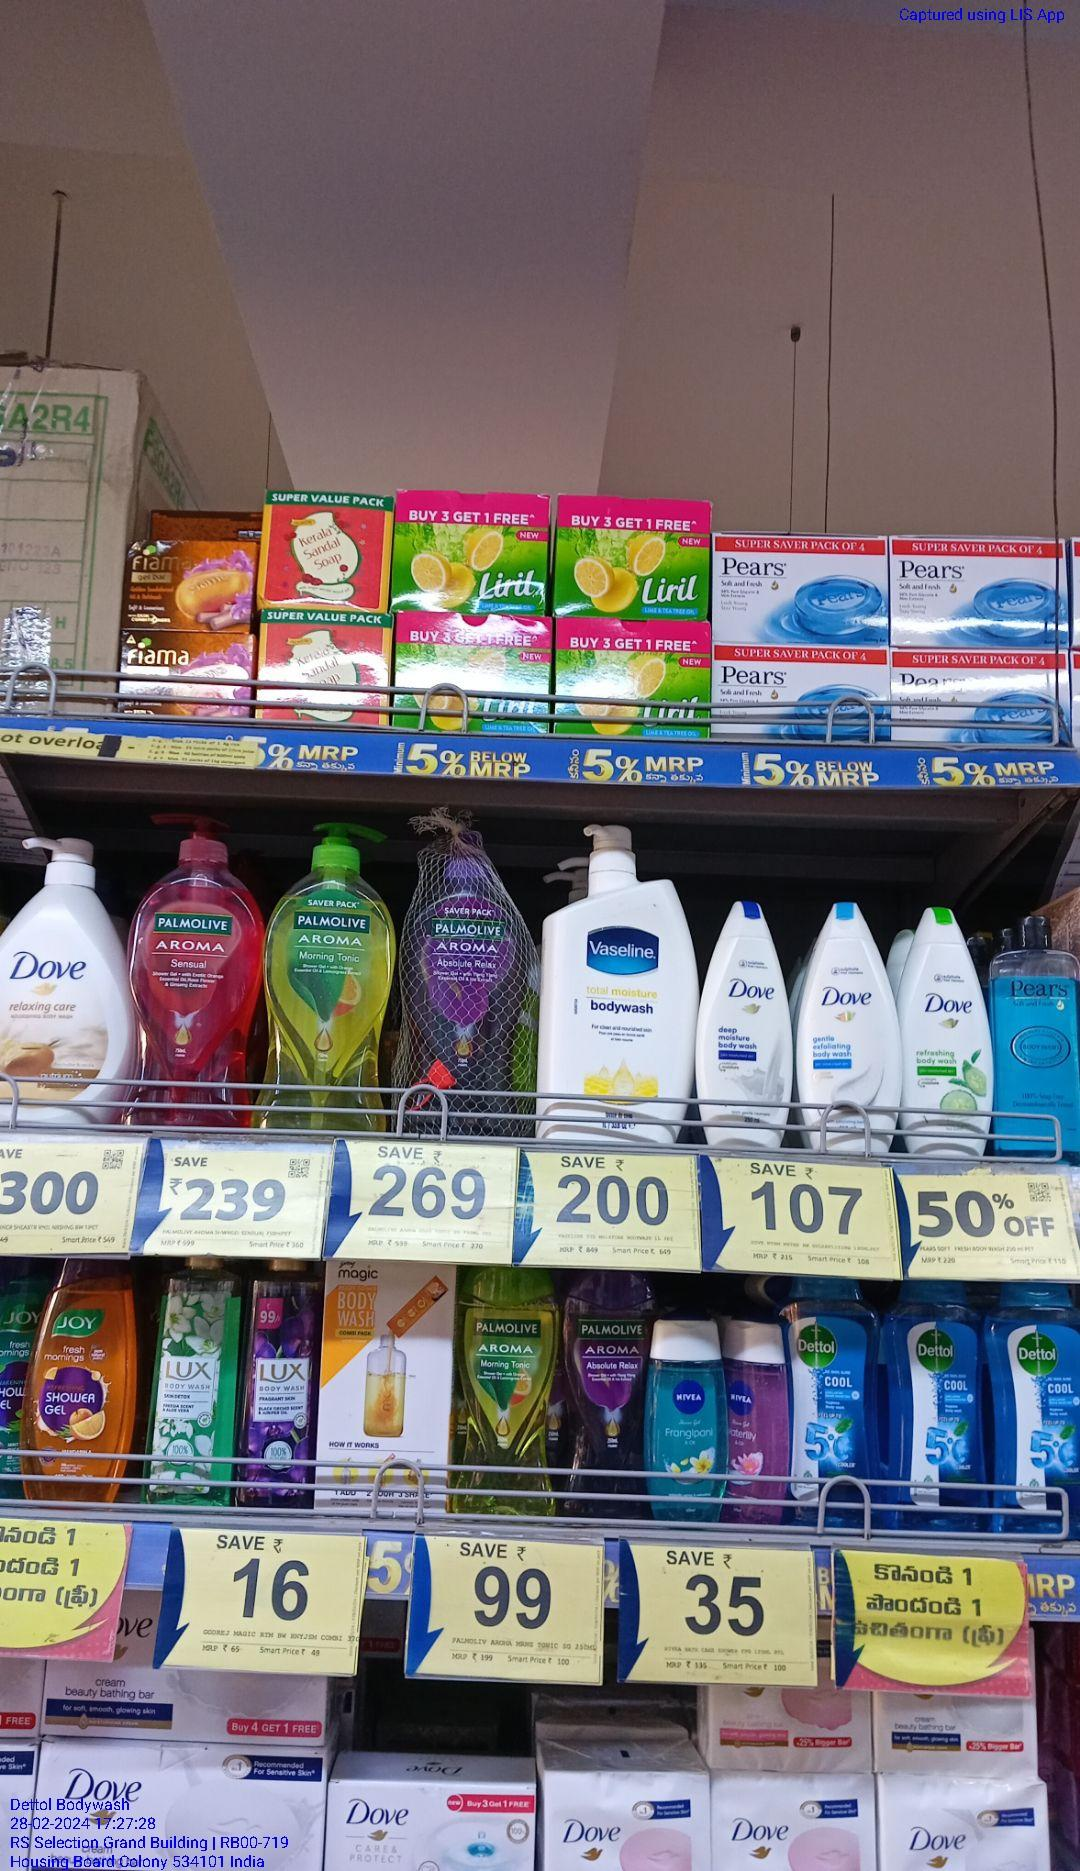Dettol_Bodywash_Cool: (896, 1279, 995, 1538), (787, 1273, 885, 1532), (994, 1276, 1080, 1548)
Dove_Deep_Moisture_Body_Wash_250ML: (697, 888, 789, 1148)
Dove_Gentle_Exfoliating_Body_Wash_250ML: (806, 898, 896, 1162)
Dove_Refreshing_Body_Wash_250ML: (910, 903, 995, 1157)
Joy_Shower_Gel_Mandarin_and_Lemongrass_250ML: (24, 1252, 136, 1512)
Lux_Black_Orchid_Scent_and_Juniper_Oil_Body_Wash_245ML: (247, 1258, 318, 1516)
Lux_Body_Wash_Skin_Detox_Freesia_Scent_and_Alove_Vera_245ML: (154, 1258, 239, 1511)
Nivea_Shower_Gel_Frangipani_and_Oil_250ML: (648, 1312, 730, 1529)
Palmolive_Aroma_Morning_Tonic_Shower_Gel_250ML: (460, 1266, 558, 1521)
Palmolive_Aroma_Relax_250ML: (564, 1263, 647, 1524)
Pears_Pure_Glycerin_and_Mint_Extracts_Body_Wash_250ML: (999, 914, 1080, 1167)
